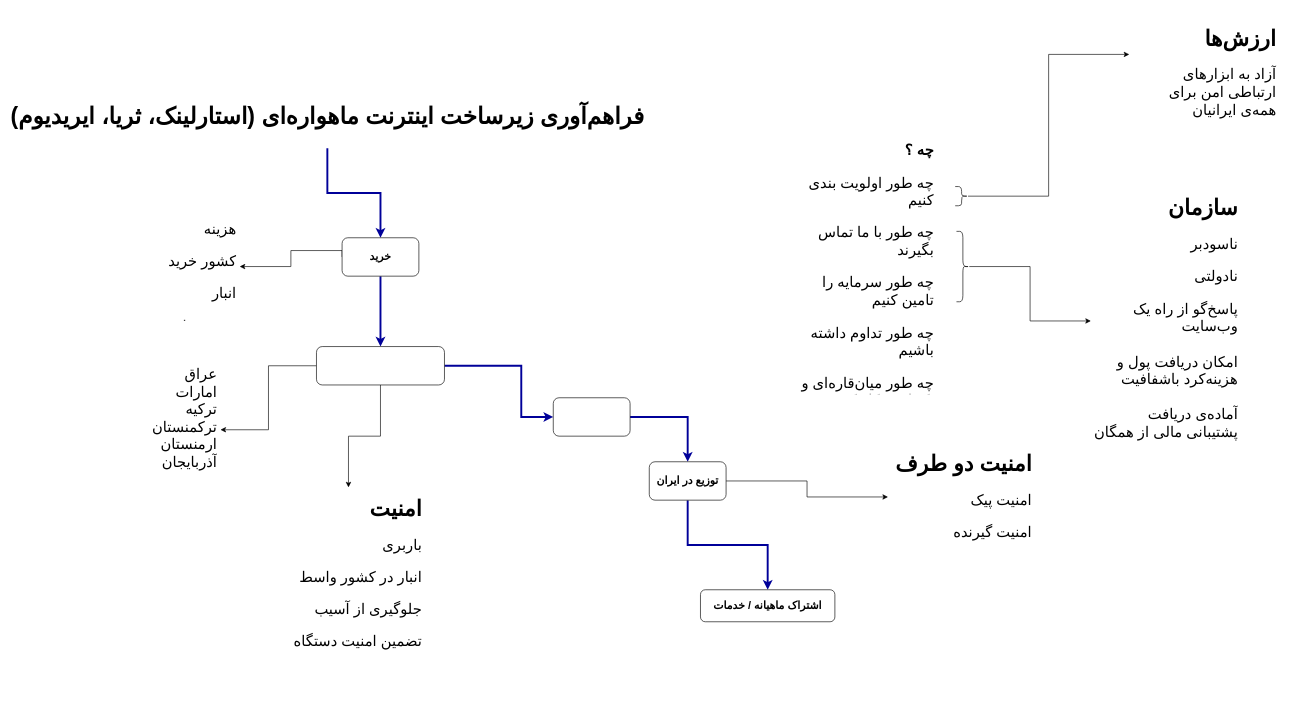
This 1290x722 diagram has some shape labels left out. The shapes that lost their labels are listed below. From the top down, each one's centre as x and y in pixels, then its label:
At (380,365): "مسیرهای فرستادن".
At (591,416): "انبار در ایران؟".
